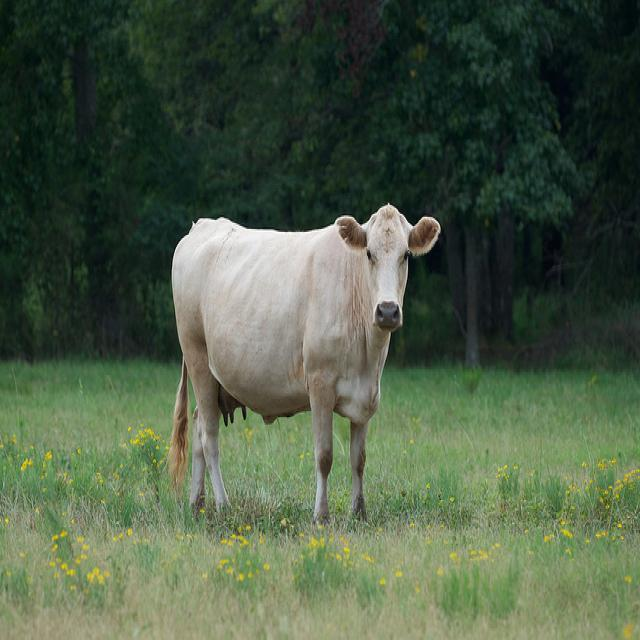cow: (161, 200, 440, 532)
